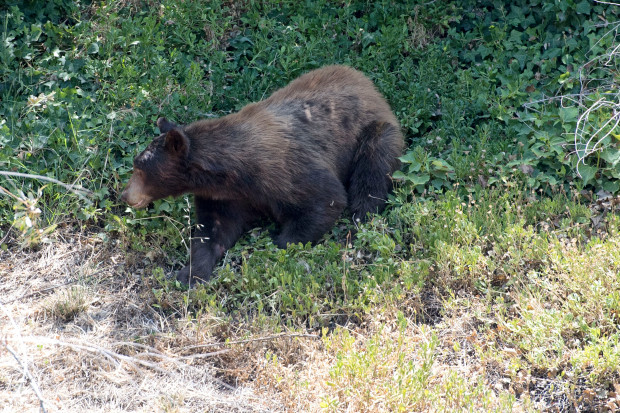bear: (118, 114, 195, 210)
